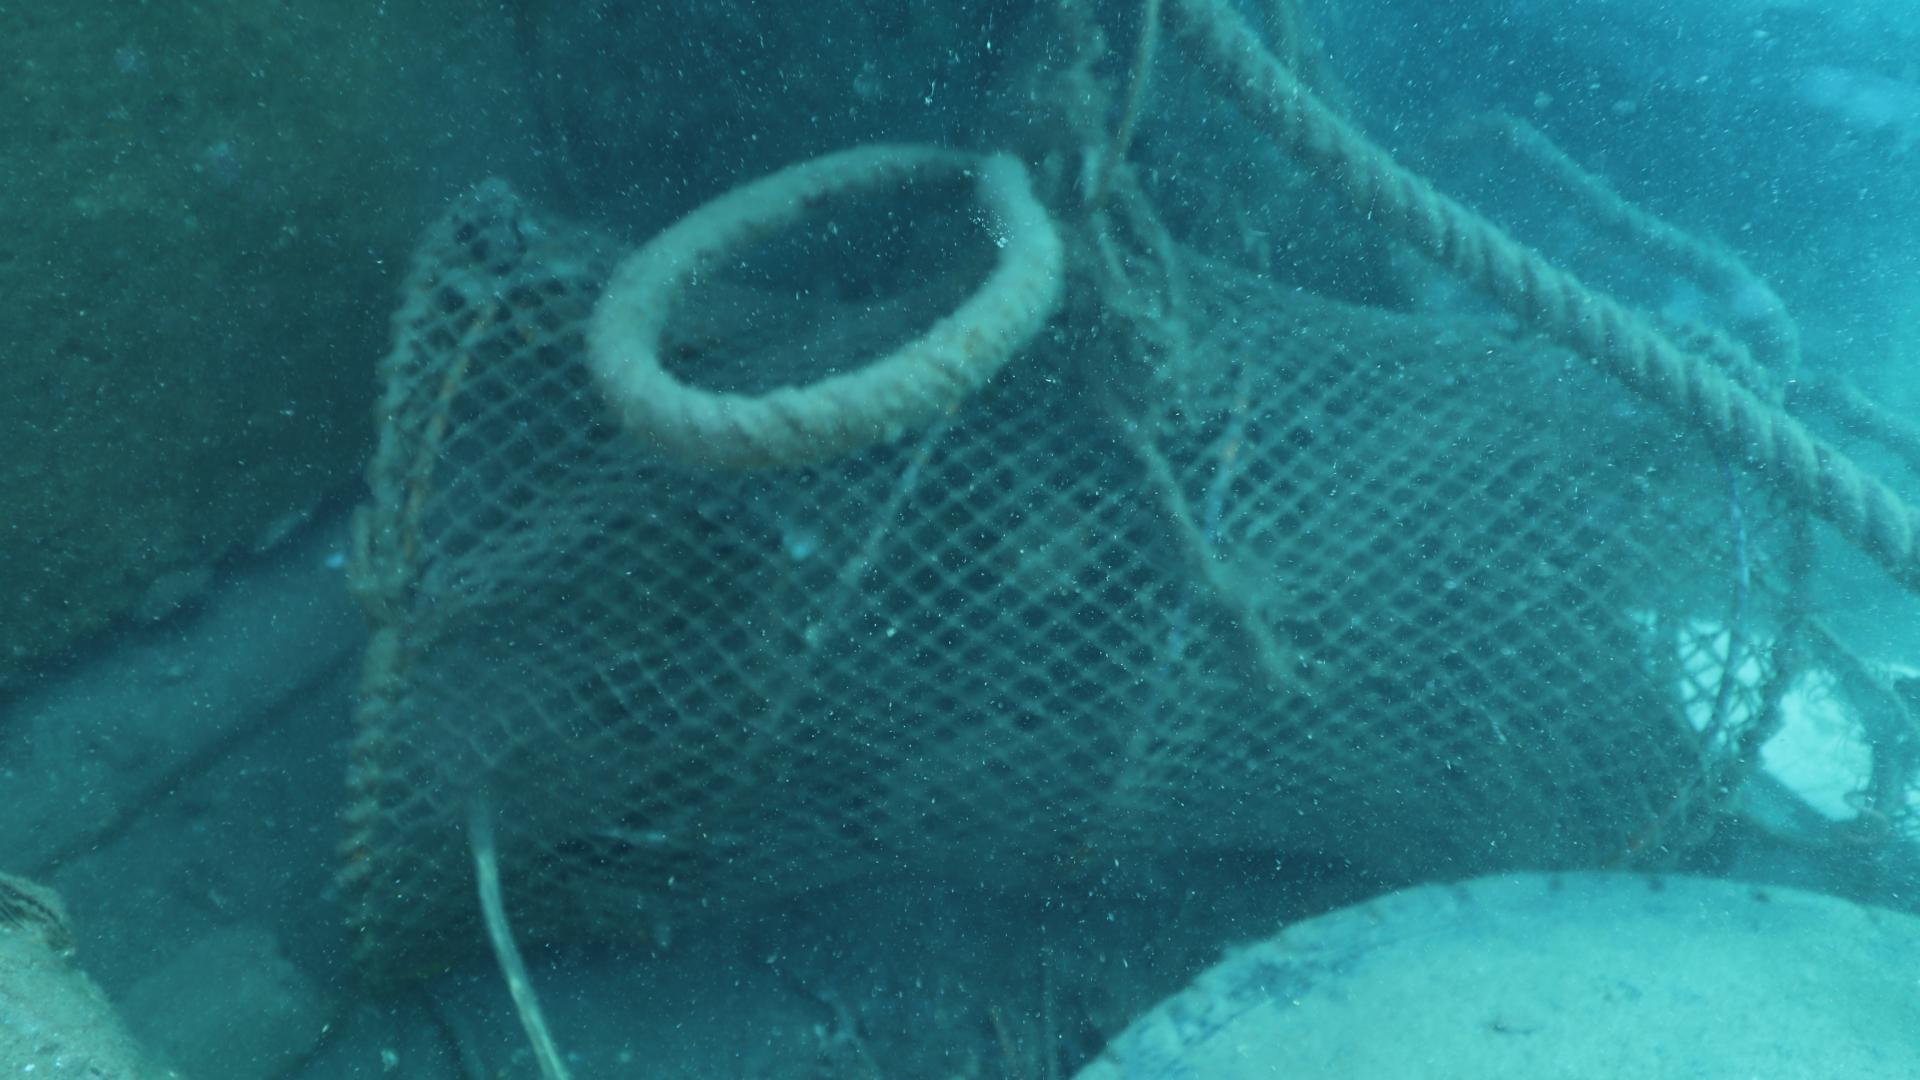rope: (1154, 3, 1920, 593), (1487, 111, 1920, 471), (583, 142, 1062, 460)
spring fish trap: (339, 177, 1807, 993)
